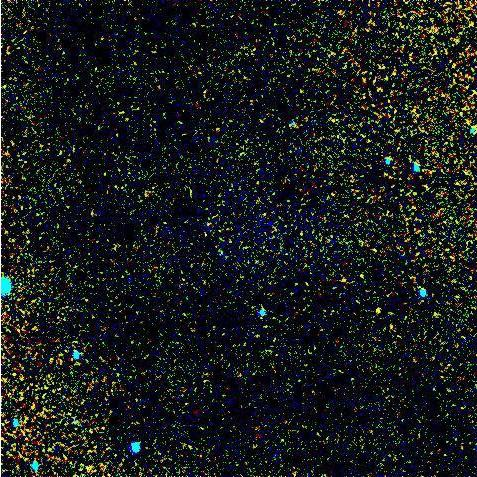star: (355, 298, 385, 328)
